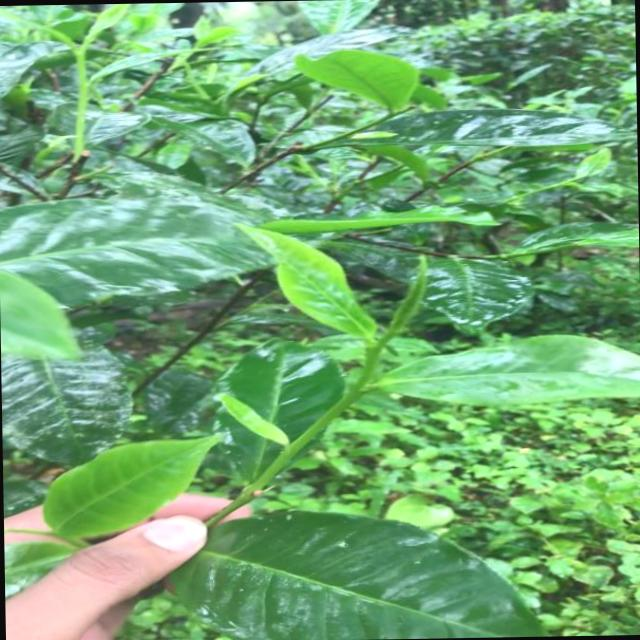Stem: (358, 355, 378, 384), (76, 52, 85, 83)
